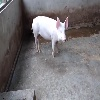heo: (31, 13, 70, 60)
